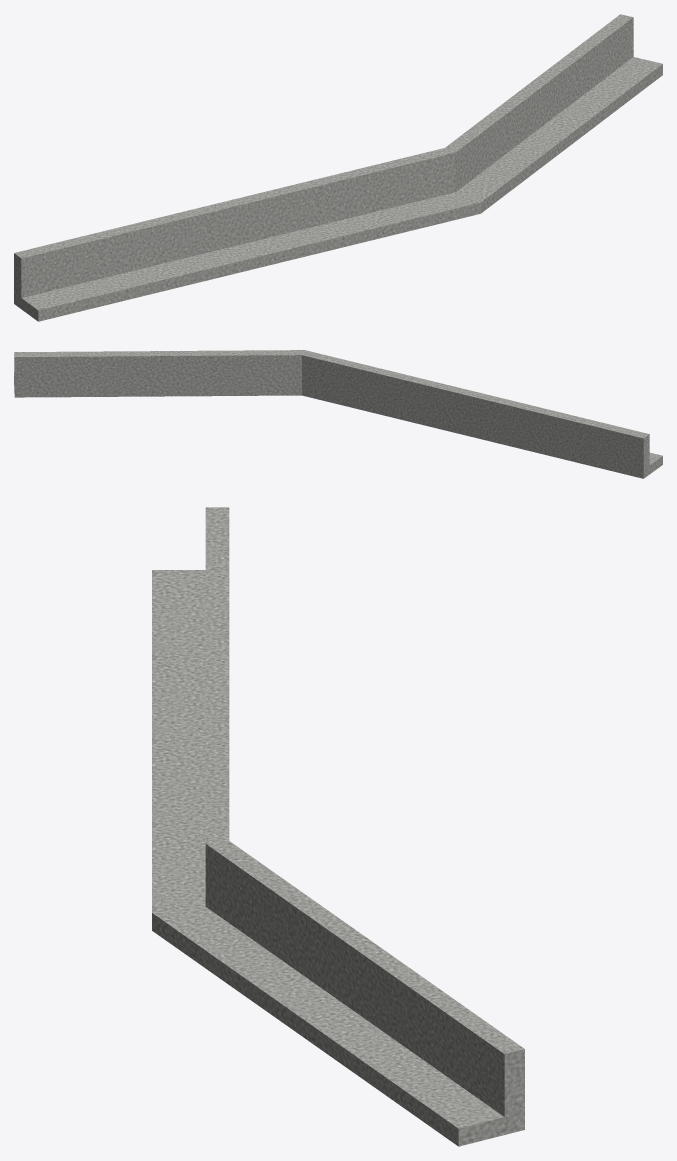
3 views of the same model, one above another, from view 1: azimuth 30°, elevation 25°; view 2: azimuth 150°, elevation 25°; view 3: azimuth 270°, elevation 25° (orthographic). The views are drawn at different scales.
Visible parts, largest first — view 1: edge.retaining_edge; view 2: edge.retaining_edge; view 3: edge.retaining_edge.
Boxes of the visible parts, x1,y1,x2,y2 form: edge.retaining_edge: (14, 14, 662, 321); edge.retaining_edge: (14, 350, 662, 478); edge.retaining_edge: (152, 507, 524, 1146).
Size of the model in its own units: 6.67 by 1.88 by 0.45.
Materials: 1 (1 with a texture image).
